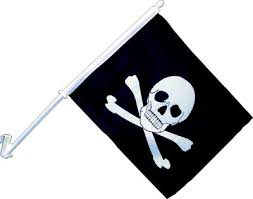Jolly Roger Flag: (70, 13, 251, 199)
